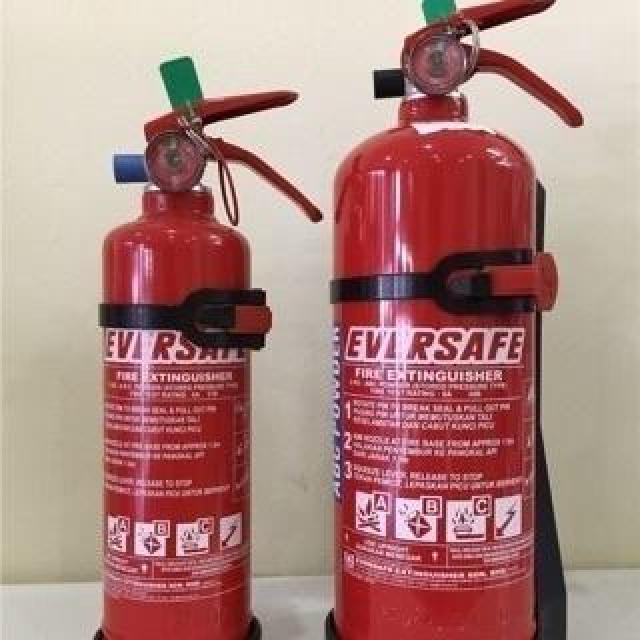fire_extinguisher: (317, 0, 585, 638), (87, 50, 325, 638)
